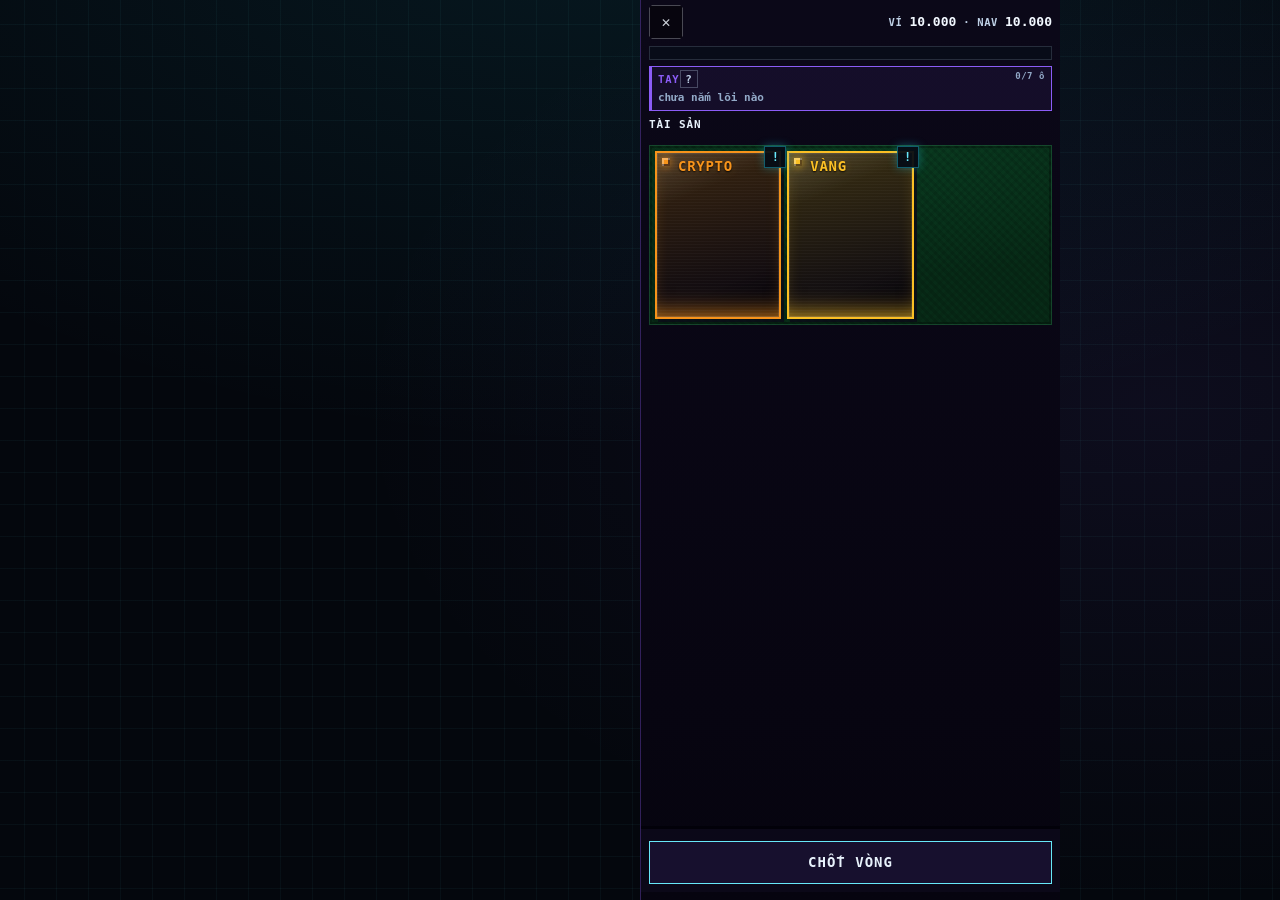
III. bàn cược gọn — mỗi con số một chỗ đứng › tay không thì đầu màn im (không "CẦM CHIP", không dòng mời); chạm mã ⇒ phiếu + "CHẠM MỘT CHIP" (D540)
Click the button "CRYPTO" at (718, 235), box [655, 150, 781, 319]
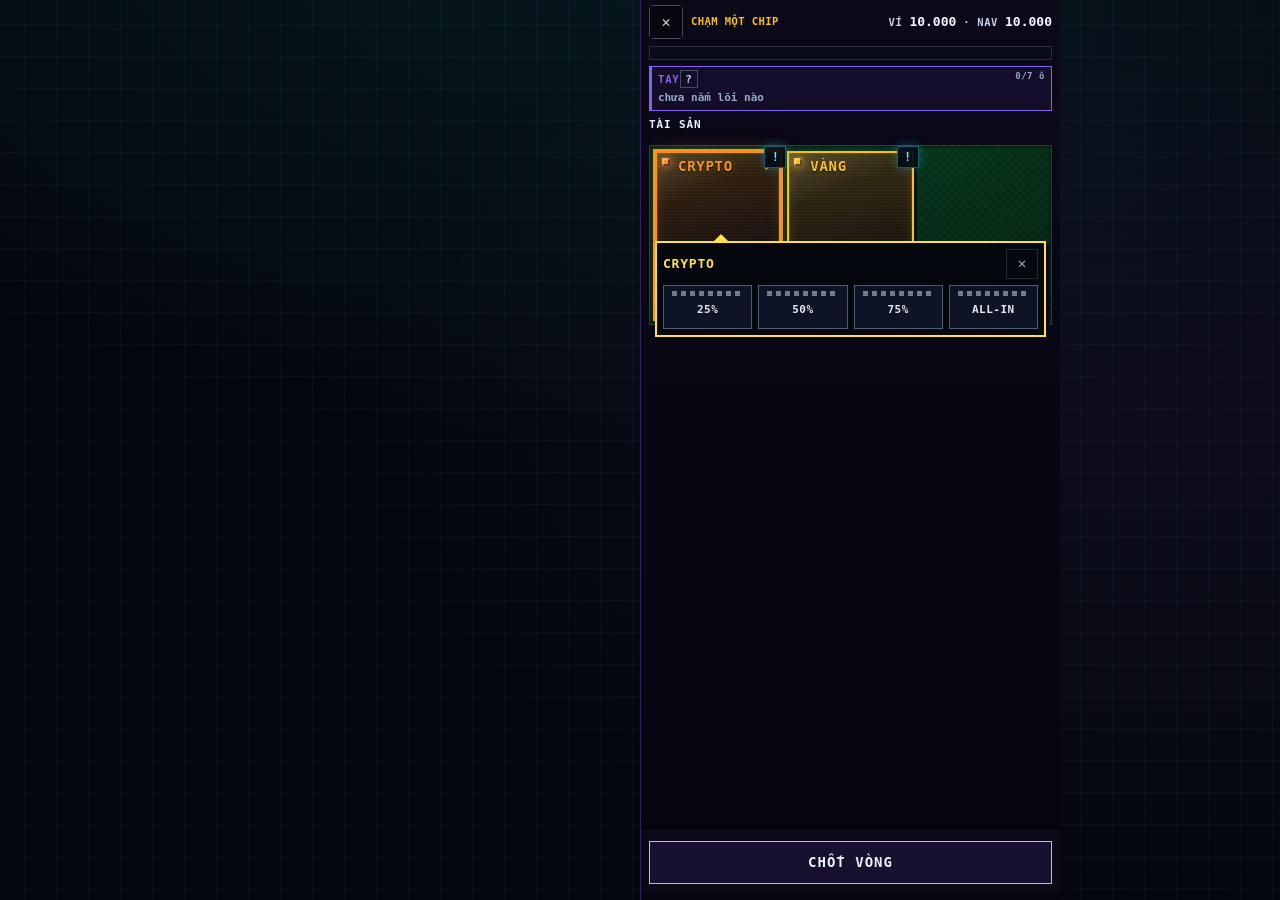
Check: the text "CHẠM MỘT CHIP" is shown, box [691, 15, 779, 27]
